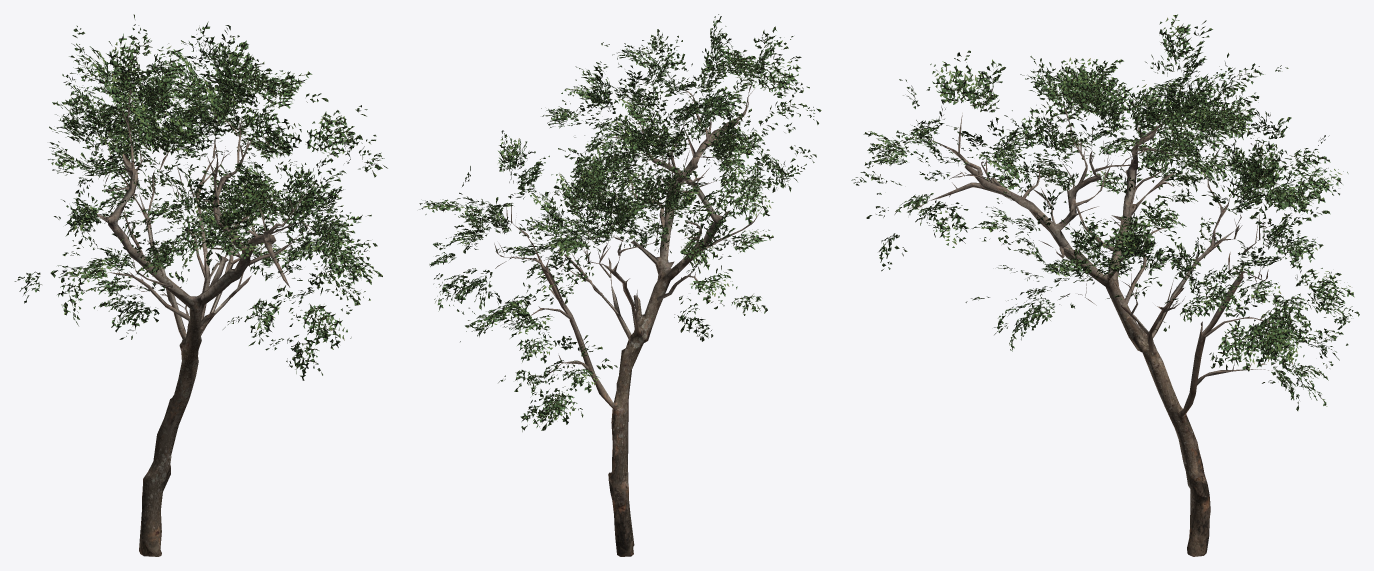
The model's file is tree_small_02.glb.
3 renders of one model, left to right at view 1: azimuth 30°, elevation 25°; view 2: azimuth 150°, elevation 25°; view 3: azimuth 270°, elevation 25°, orthographic. The views are drawn at different scales.
Parts seen in each view (by area): view 1: tree_small_02_LOD0; view 2: tree_small_02_LOD0; view 3: tree_small_02_LOD0.
Part boxes in pixels (box(x1,y1,x2,y2)): tree_small_02_LOD0: box(14, 14, 387, 556); tree_small_02_LOD0: box(419, 14, 821, 556); tree_small_02_LOD0: box(851, 14, 1359, 556).
Bounding box in the file's own units: 2.88 × 4.55 × 4.2.
Materials: 3 (3 with a texture image).
